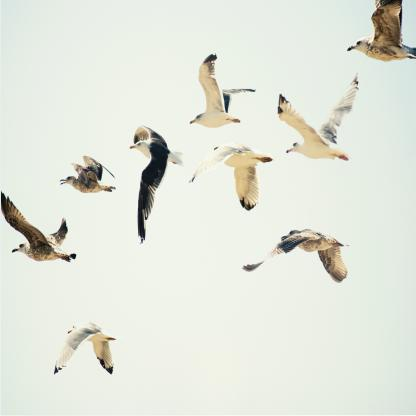bird: (278, 75, 358, 162), (129, 127, 182, 244), (190, 140, 274, 212), (242, 230, 350, 283), (0, 192, 79, 262), (191, 53, 257, 128), (348, 0, 415, 62), (55, 322, 115, 376), (60, 154, 115, 194)
